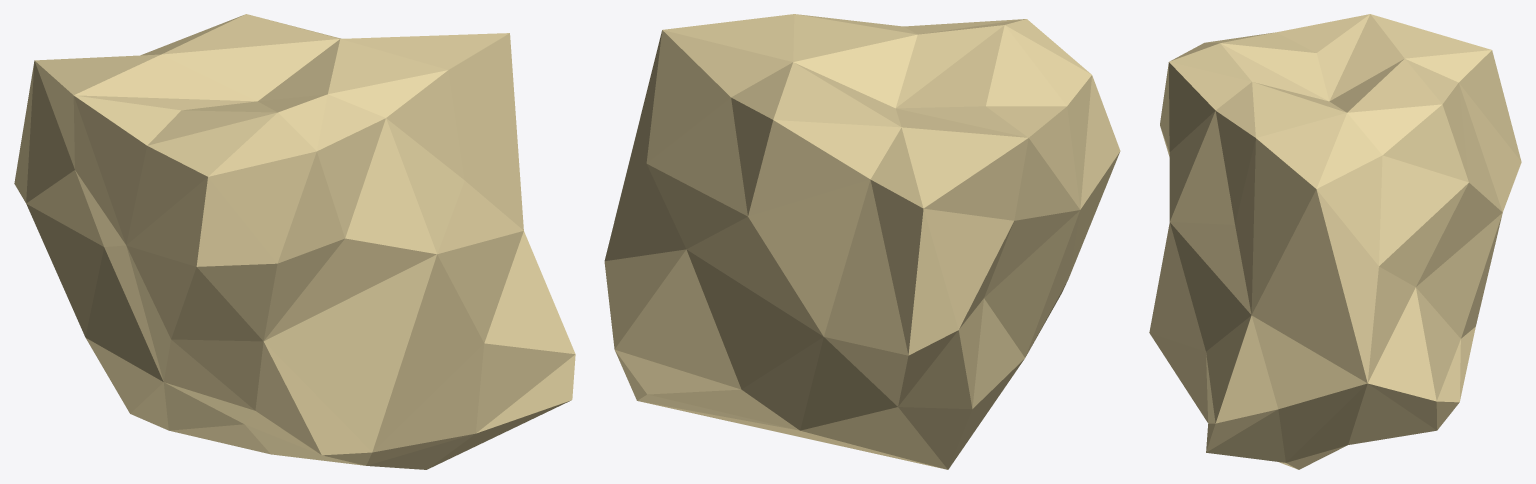
The model's file is Rock (55).fbx.
3 renders of one model, left to right at view 1: azimuth 30°, elevation 25°; view 2: azimuth 150°, elevation 25°; view 3: azimuth 270°, elevation 25°, orthographic. The views are drawn at different scales.
Visible parts, largest first — view 1: Asteroid54; view 2: Asteroid54; view 3: Asteroid54.
Boxes of the visible parts, x1,y1,x2,y2 form: Asteroid54: (14,14,575,469); Asteroid54: (604,14,1120,469); Asteroid54: (1149,14,1521,469).
Size of the model in its own units: 165 by 151 by 148.
